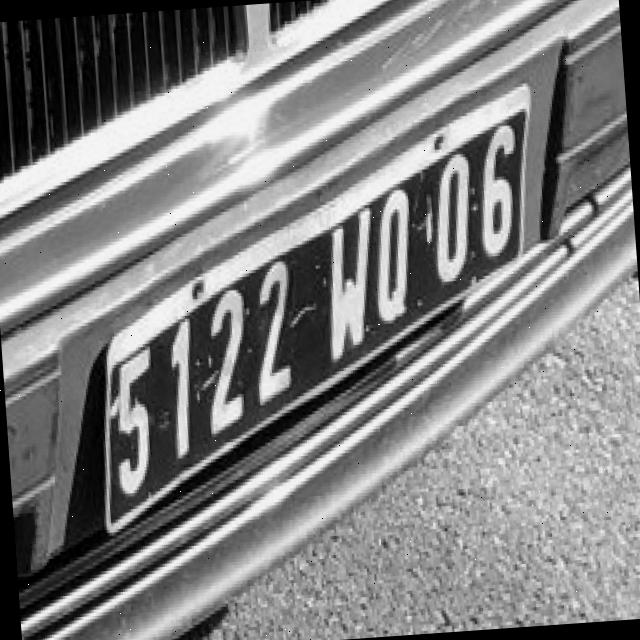Autre: (101, 84, 528, 540)
